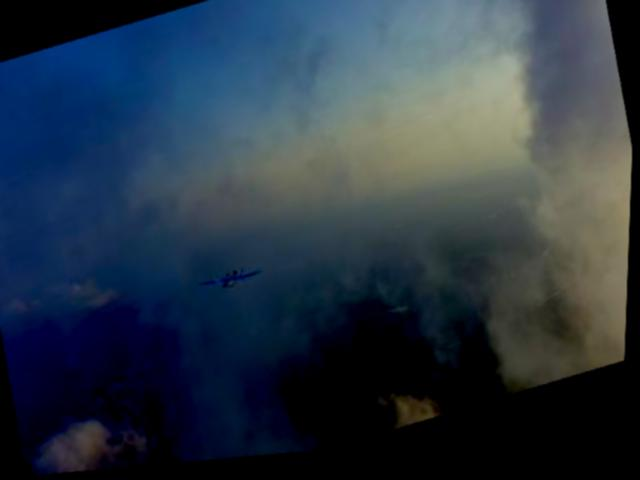uav: (198, 259, 267, 302)
